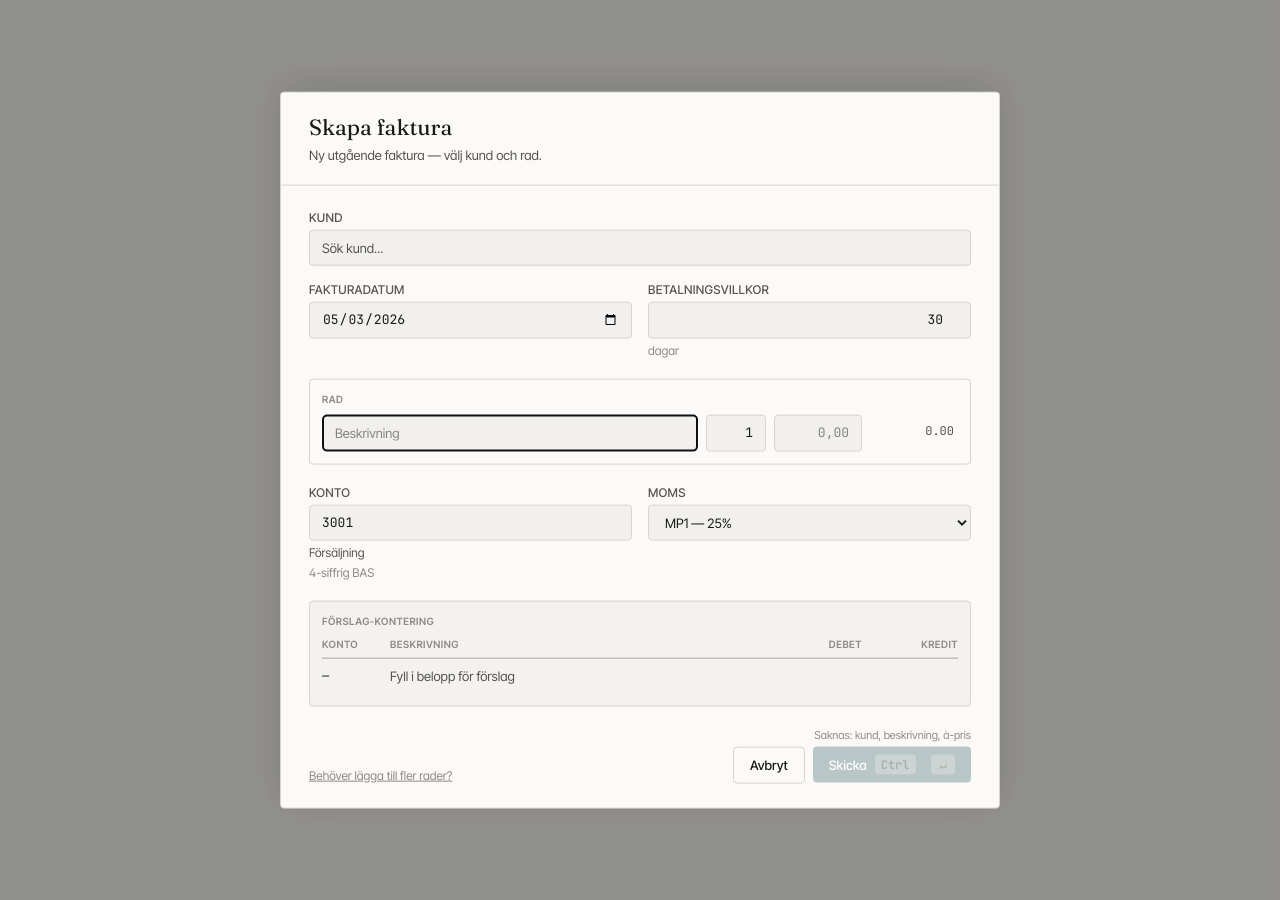
Test: Sprint VS-4 — SkapaFakturaSheet › VS-134/VS-19 inline-fel om kontonummer inte finns i kontoplan
Replace the text in the field with test id "vardag-faktura-account" with "9999" at (470, 522), box x1=309 y1=504 x2=632 y2=541
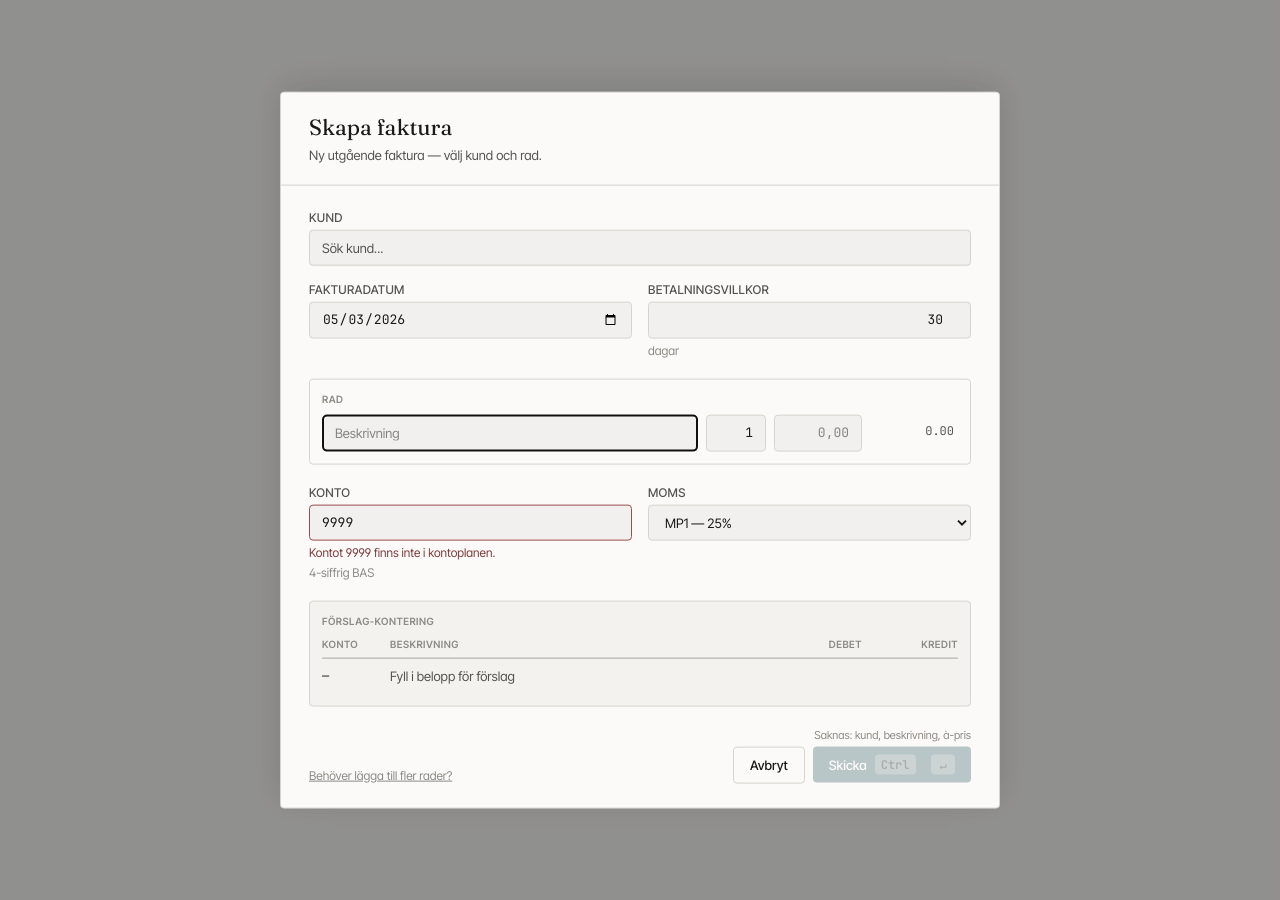
Expected: the button with test id "vardag-faktura-submit" is disabled, x1=813 y1=747 x2=971 y2=783
Expected: the message with test id "vardag-faktura-account-error" shows "finns inte i kontoplanen", x1=309 y1=545 x2=495 y2=560
